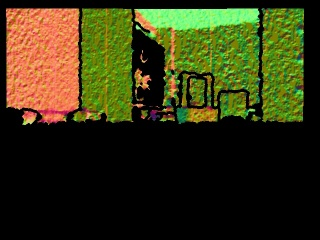station: (175, 70, 220, 123)
